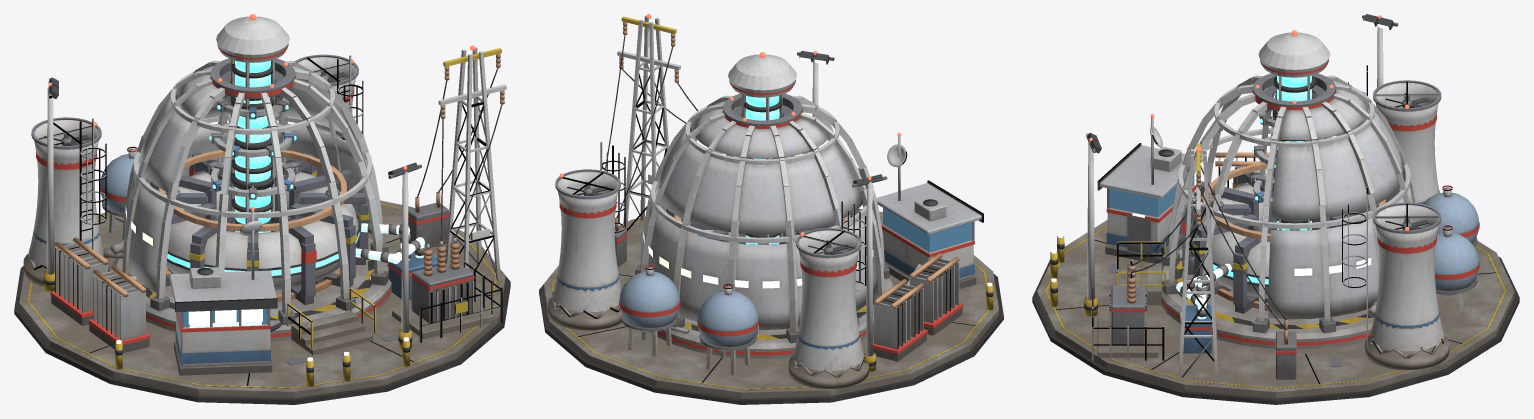
The model's file is fusion_reactor.glb.
3 renders of one model, left to right at view 1: azimuth 30°, elevation 25°; view 2: azimuth 150°, elevation 25°; view 3: azimuth 270°, elevation 25°, orthographic. The views are drawn at different scales.
Parts seen in each view (by area): view 1: Build0Body, Build5Body, Build11Body, TowersBody, Build6Body, Build3Body, Build12Body, PylonBody, Build2Body, Build1Body, Build4Body, Build8Body (+7 smaller); view 2: Build6Body, TowersBody, Build0Body, Build5Body, Build11Body, PylonBody, OptTankBody, Build4Body, Build10Body, OptRadiatorBody, Build8Body, Build1Body (+3 smaller); view 3: Build0Body, Build6Body, TowersBody, Build5Body, Build11Body, Build1Body, Build12Body, Build3Body, Build4Body, PylonBody, Build2Body, OptTankBody (+4 smaller).
Part boxes in pixels (x1,y1,x2,y2): Build0Body: (14, 200, 510, 404); Build5Body: (122, 58, 388, 324); Build11Body: (169, 206, 303, 375); TowersBody: (23, 54, 363, 286); Build6Body: (123, 65, 372, 292); Build3Body: (150, 150, 369, 305); Build12Body: (392, 68, 502, 342); PylonBody: (438, 45, 506, 280); Build2Body: (165, 160, 360, 290); Build1Body: (111, 238, 391, 355); Build4Body: (216, 14, 289, 232); Build8Body: (88, 265, 150, 352); Build6Body: (641, 100, 878, 329); TowersBody: (547, 142, 868, 388); Build0Body: (539, 208, 1003, 404); Build5Body: (635, 93, 889, 343); Build11Body: (876, 132, 983, 288); PylonBody: (617, 14, 680, 231); OptTankBody: (619, 264, 688, 356); Build4Body: (728, 52, 796, 244); Build10Body: (697, 284, 759, 375); OptRadiatorBody: (873, 279, 927, 361); Build8Body: (873, 253, 963, 335); Build1Body: (651, 278, 893, 358); Build0Body: (1032, 195, 1519, 404); Build6Body: (1268, 80, 1413, 319); TowersBody: (1342, 65, 1449, 369); Build5Body: (1162, 73, 1415, 333); Build11Body: (1097, 113, 1203, 272); Build1Body: (1117, 241, 1373, 349); Build12Body: (1091, 165, 1296, 379); Build3Body: (1181, 162, 1394, 313); Build4Body: (1258, 30, 1330, 230); PylonBody: (1178, 143, 1218, 380); Build2Body: (1190, 172, 1379, 298); OptTankBody: (1434, 225, 1479, 318).
Size of the model in its own units: 14.5 by 8.91 by 14.5.
26 materials, 16 textured.
